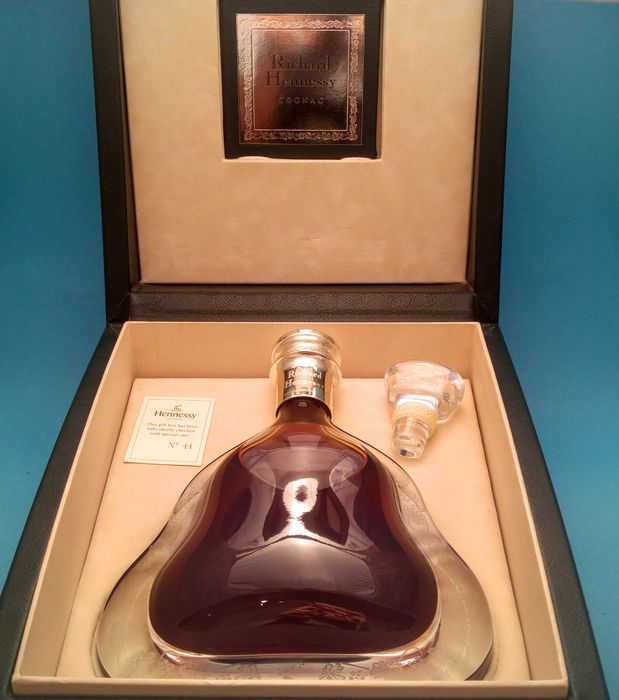Hennessy: (80, 313, 510, 682)
